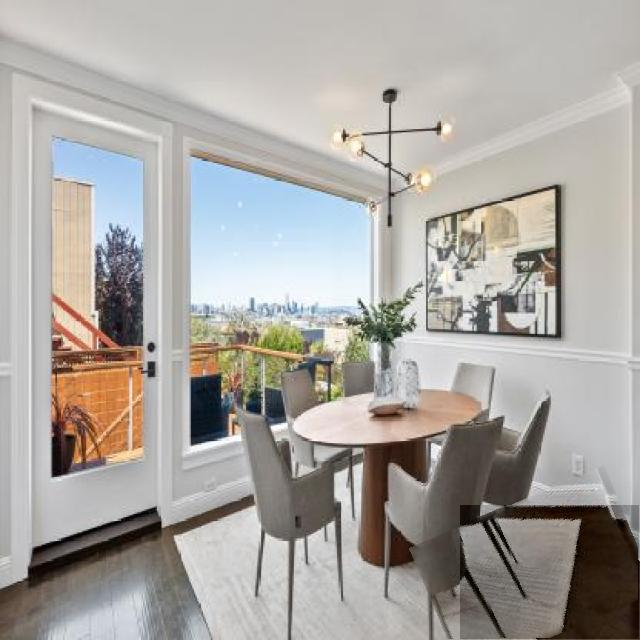floor: (1, 494, 287, 640), (461, 505, 639, 639), (440, 583, 503, 640)
